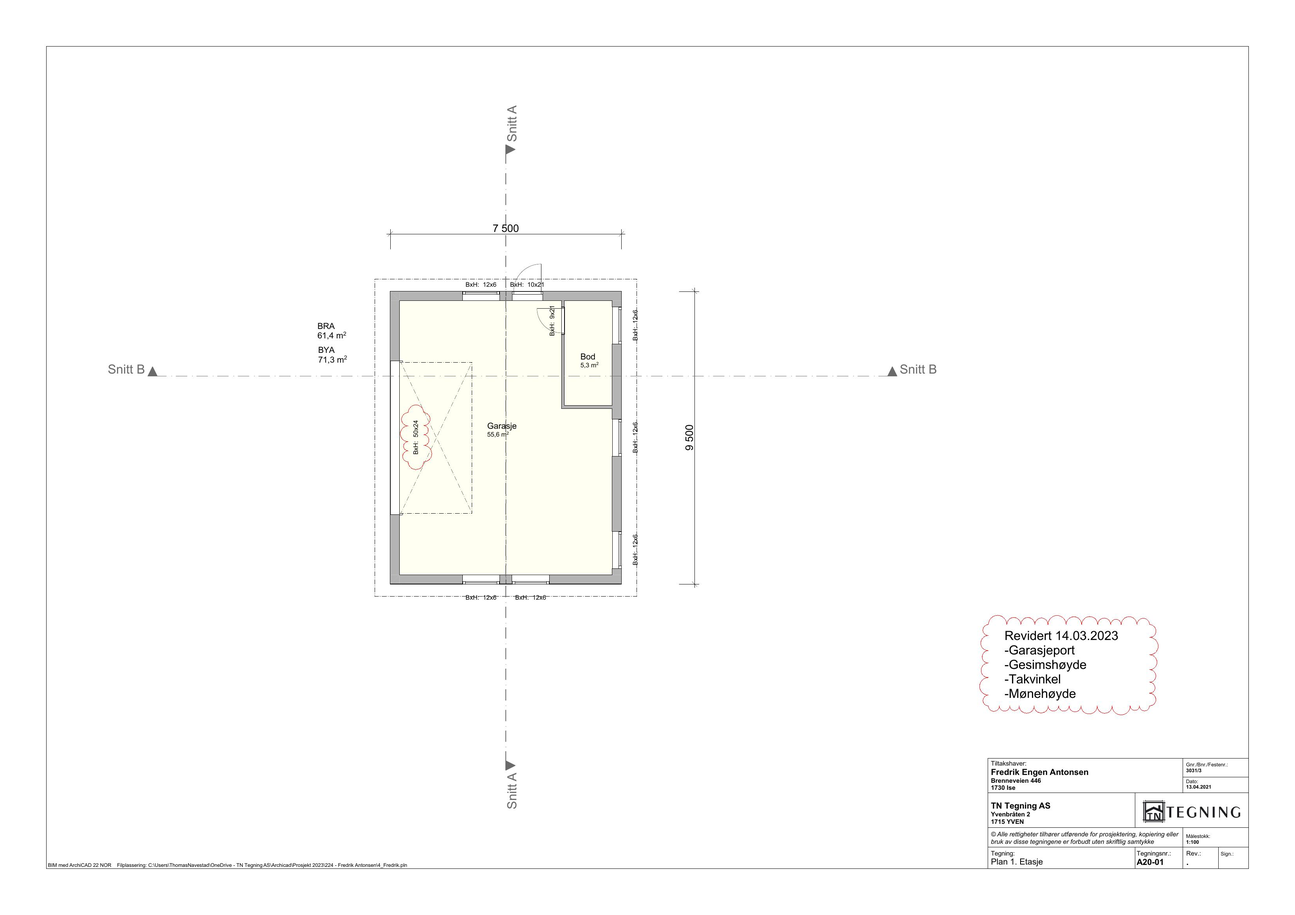plantegning: (375, 279, 637, 597)
